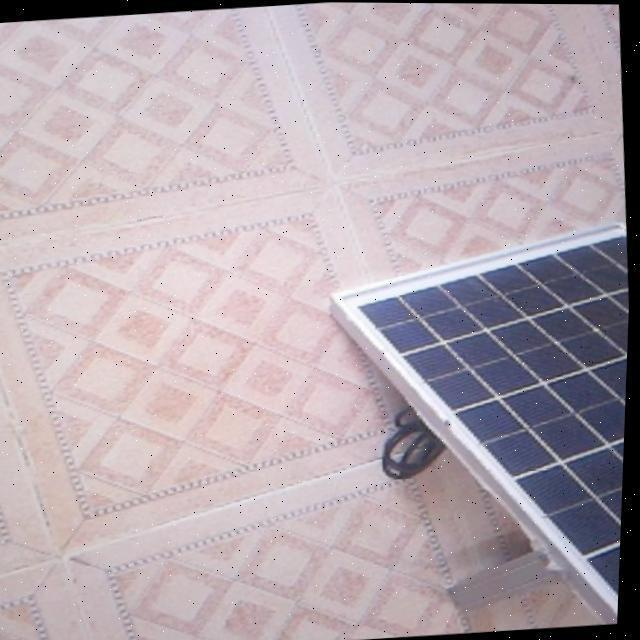Normal Solar Panel: (320, 219, 634, 640)
